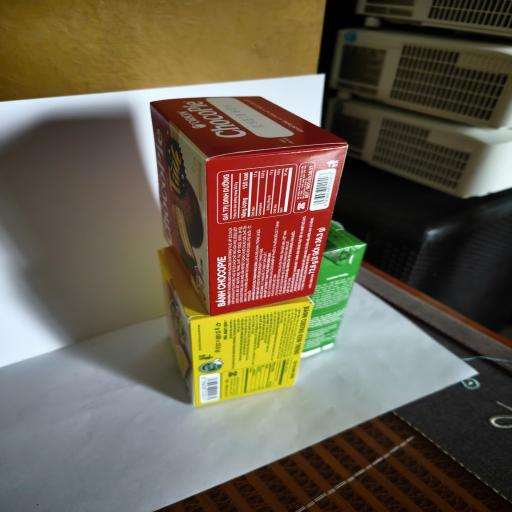chocopie: (150, 96, 348, 316)
custas: (158, 238, 313, 407)
milo: (300, 220, 368, 359)
